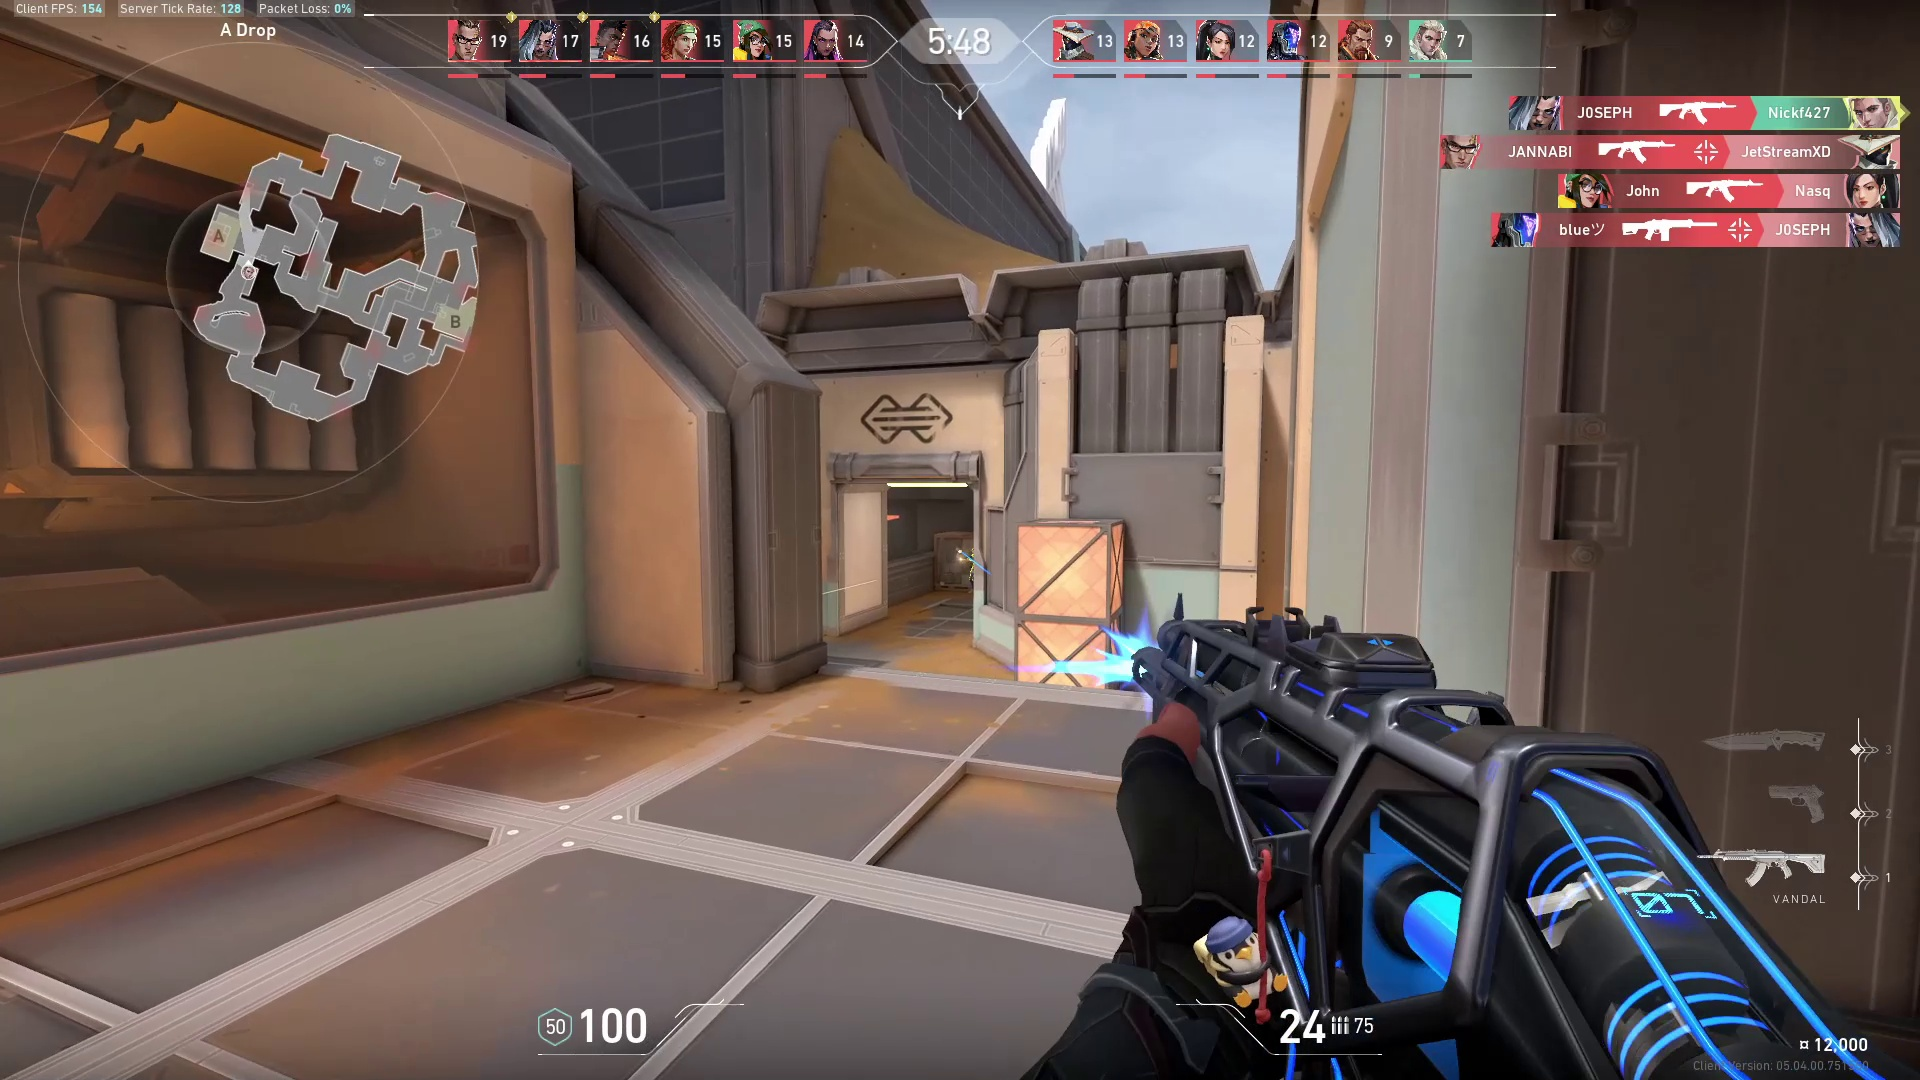enemy_body: (963, 556, 975, 595)
enemy_head: (969, 546, 975, 555)
